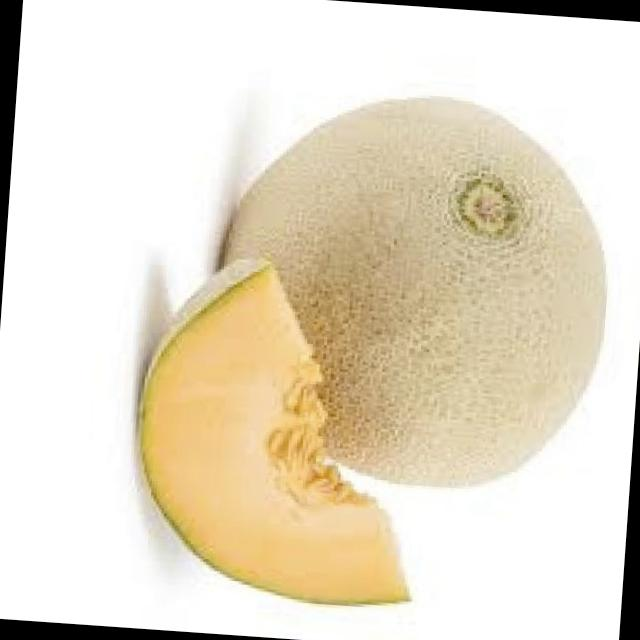Hami Melon: (210, 83, 620, 499), (123, 256, 434, 610)
